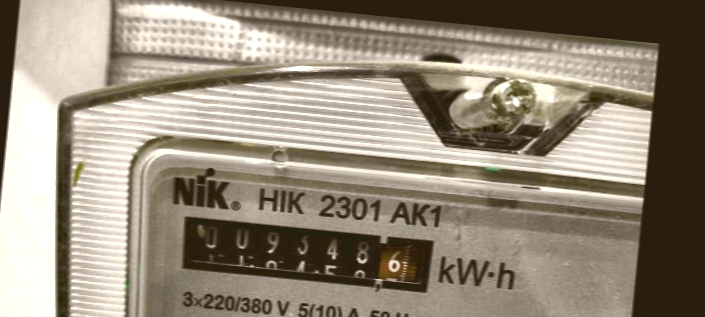0: (203, 221, 219, 248), (233, 224, 250, 249)
3: (294, 229, 310, 256)
4: (323, 232, 340, 260)
6: (384, 245, 404, 274)
8: (353, 236, 371, 265)
9: (263, 227, 280, 255)
screen: (169, 206, 444, 301)
